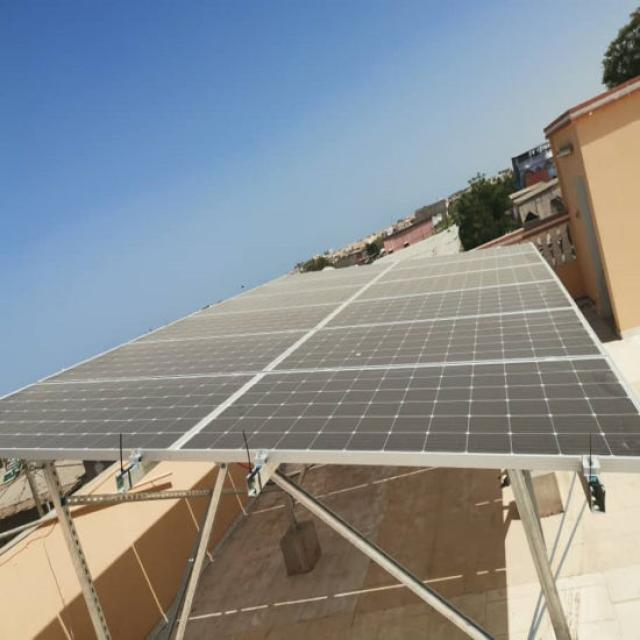dust-solar-panel: (0, 242, 640, 458)
